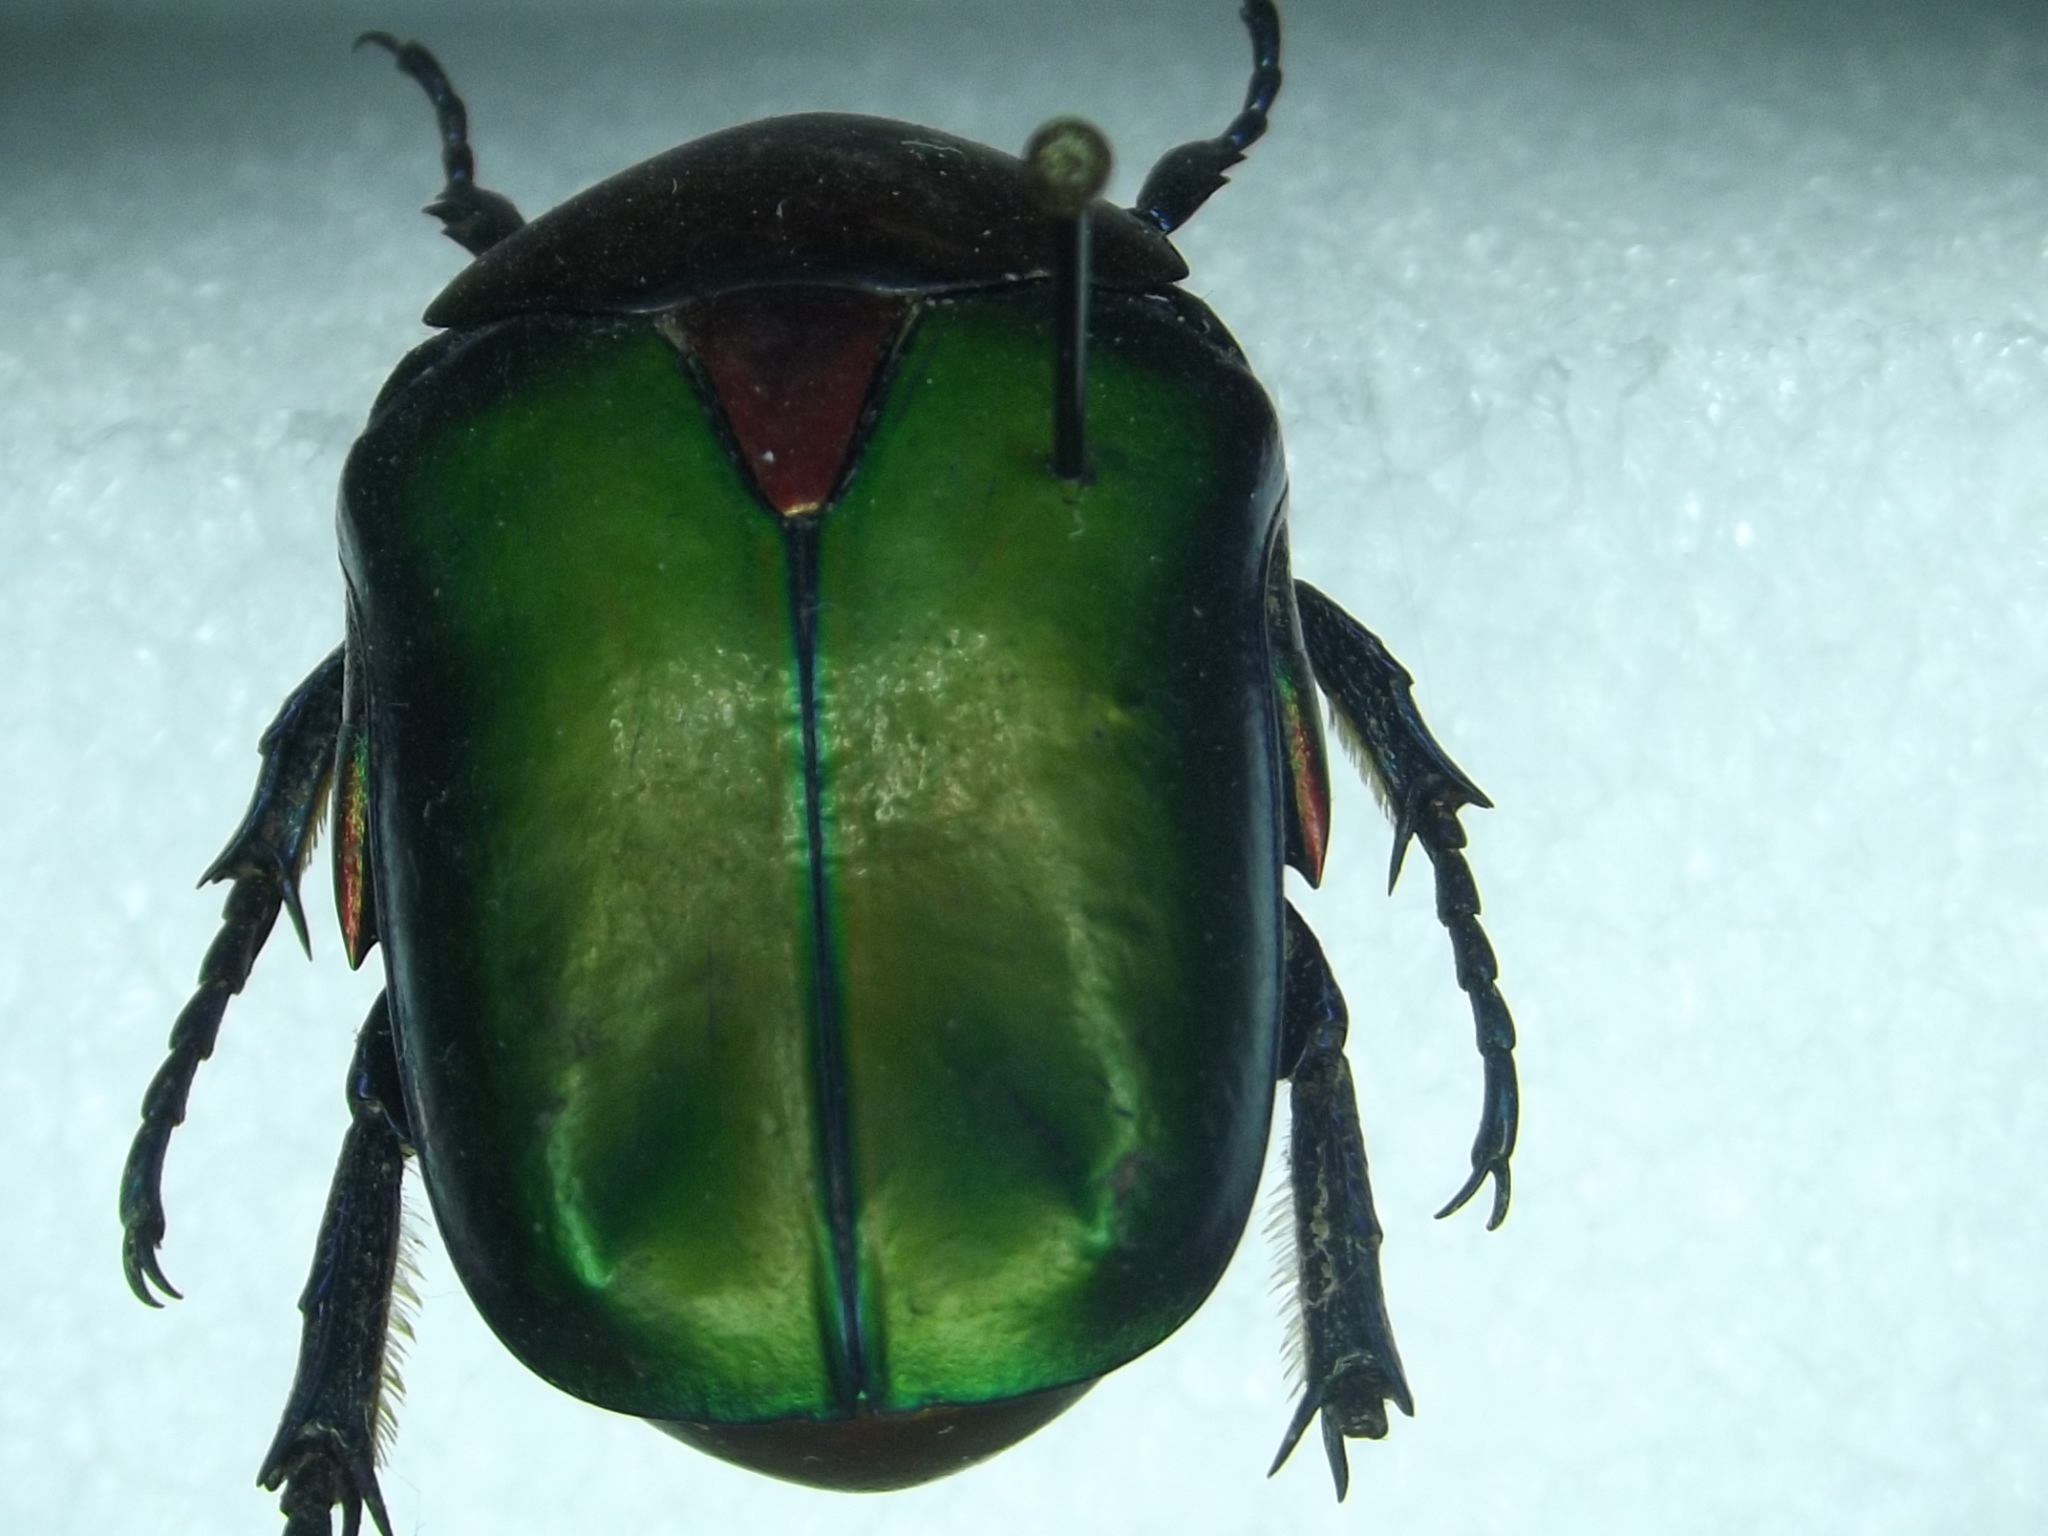Protaetia_speciosa_jousseliniw: (53, 10, 1538, 1536)
